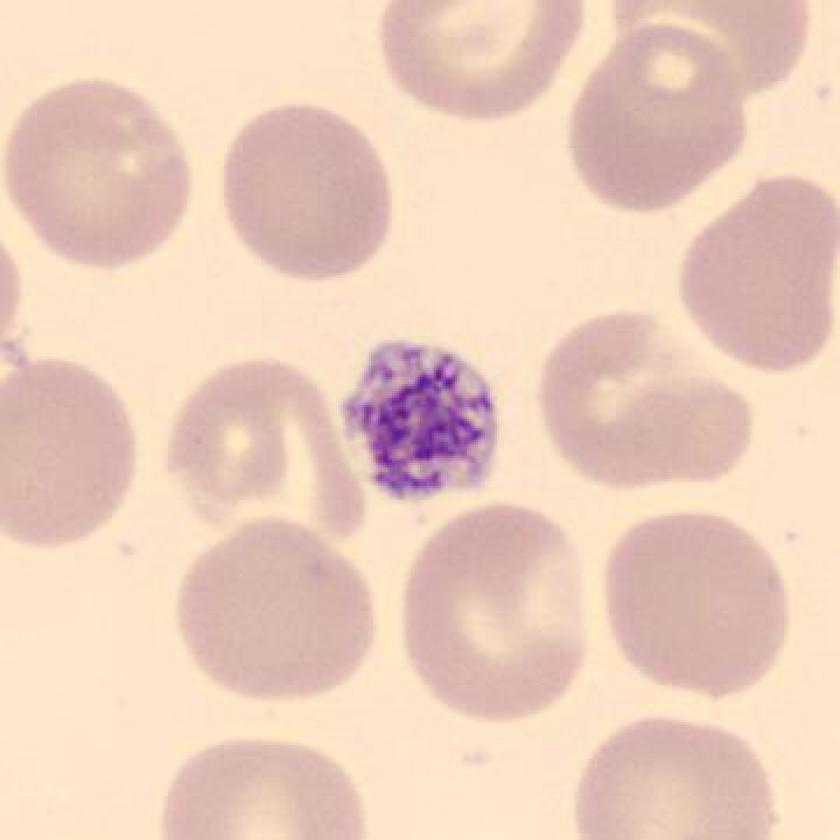platelets: (328, 325, 510, 529)
